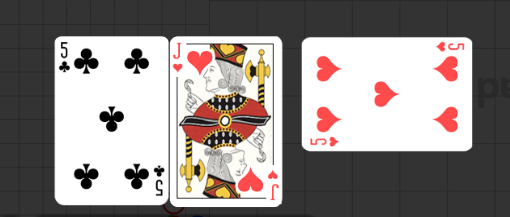5C: (151, 163, 166, 198)
5H: (434, 41, 466, 54), (309, 135, 341, 148)
